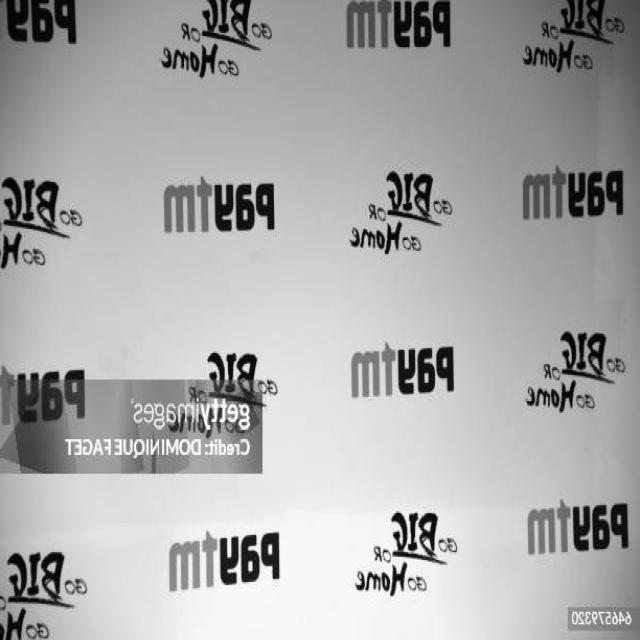fully_visible: (162, 519, 288, 601), (341, 333, 467, 412), (510, 157, 629, 234), (154, 174, 281, 246), (526, 490, 632, 564), (336, 0, 459, 61)
